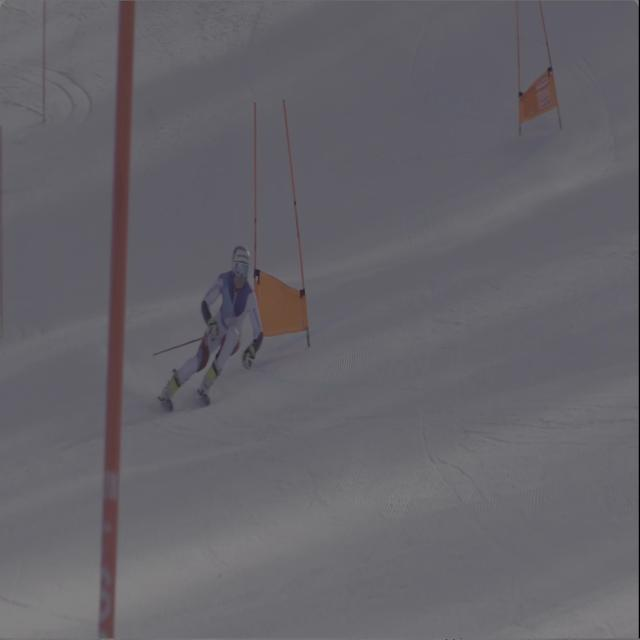gate: (96, 0, 139, 640), (276, 97, 322, 361)
